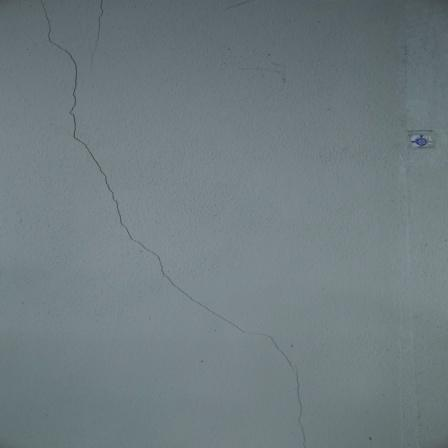crack: (0, 0, 343, 448), (83, 0, 109, 77)
